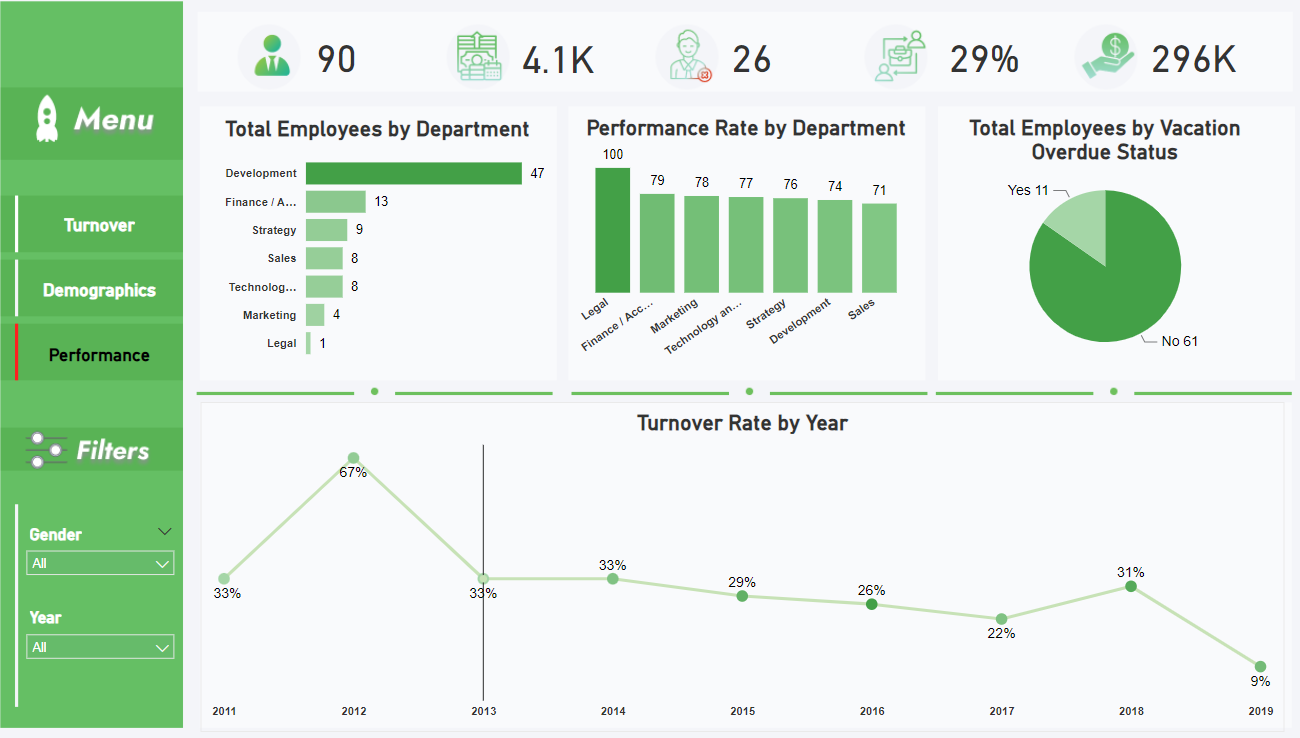

The dashboard page shown, as its layout file describes it:
{"tool":"powerbi","page":{"name":"Performance","canvas":[1280,720],"ordinal":2},"visuals":[{"type":"pageNavigator","box":[46.2,192.5,148.8,193.8],"z":0},{"type":"slicer","fields":{"Values":["HR (Fact).Gender"]},"box":[36.2,505,171.2,71.2],"z":1000},{"type":"slicer","fields":{"Values":["HR (Fact).Hire Date.Variation.Date Hierarchy.Year"]},"box":[36.2,585,171.2,71.2],"z":2000},{"type":"card","fields":{"Values":["_Measures_.Total Employees"]},"box":[313.1,36.9,65.5,56],"z":3000},{"type":"card","fields":{"Values":["_Measures_.Salay AVG"]},"box":[519.1,38.1,76.2,54.8],"z":4000},{"type":"card","fields":{"Values":["_Measures_.Turned Employees"]},"box":[709.5,36.9,64.3,56],"z":5000},{"type":"card","fields":{"Values":["_Measures_.Turnover Rate"]},"box":[914.3,39.3,97.6,51.2],"z":6000},{"type":"card","fields":{"Values":["_Measures_.Sum Salary"]},"box":[1120.2,44.4,84.5,41.7],"z":7000},{"type":"columnChart","fields":{"Category":["Department Bridge (Dim).Department"],"Y":["_Measures_.Performance Rate"]},"box":[565.5,114.3,341.7,254.8],"z":8000},{"type":"barChart","fields":{"Category":["HR (Fact).Department"],"Y":["_Measures_.Total Employees"]},"box":[216.7,116,336.9,255.5],"z":10001},{"type":"lineChart","fields":{"Category":["HR (Fact).Hire Date.Variation.Date Hierarchy.Year"],"Y":["_Measures_.Turnover Rate"]},"box":[216.7,395.2,1032.1,314.3],"z":10002},{"type":"pieChart","title":"Total Employees by Vacation Overdue Status","fields":{"Category":["Employees (Dim).Overdue Vacation?"],"Y":["_Measures_.Total Employees"]},"box":[907.1,114.3,341.7,257.1],"z":10003}]}

Visuals, with their boxes in screenshot pixels (x1, y1, x2, y2), scaled from the page's 1280x720 canvas onto the 1300x738 screenshot:
pageNavigator: <region>47, 197, 198, 396</region>
slicer - HR (Fact).Gender: <region>37, 518, 211, 591</region>
slicer - HR (Fact).Hire Date.Variation.Date Hierarchy.Year: <region>37, 600, 211, 673</region>
card - _Measures_.Total Employees: <region>318, 38, 385, 95</region>
card - _Measures_.Salay AVG: <region>527, 39, 605, 95</region>
card - _Measures_.Turned Employees: <region>721, 38, 786, 95</region>
card - _Measures_.Turnover Rate: <region>929, 40, 1028, 93</region>
card - _Measures_.Sum Salary: <region>1138, 46, 1224, 88</region>
columnChart - Department Bridge (Dim).Department x _Measures_.Performance Rate: <region>574, 117, 921, 378</region>
barChart - HR (Fact).Department x _Measures_.Total Employees: <region>220, 119, 562, 381</region>
lineChart - HR (Fact).Hire Date.Variation.Date Hierarchy.Year x _Measures_.Turnover Rate: <region>220, 405, 1268, 727</region>
"Total Employees by Vacation Overdue Status" pieChart: <region>921, 117, 1268, 381</region>
